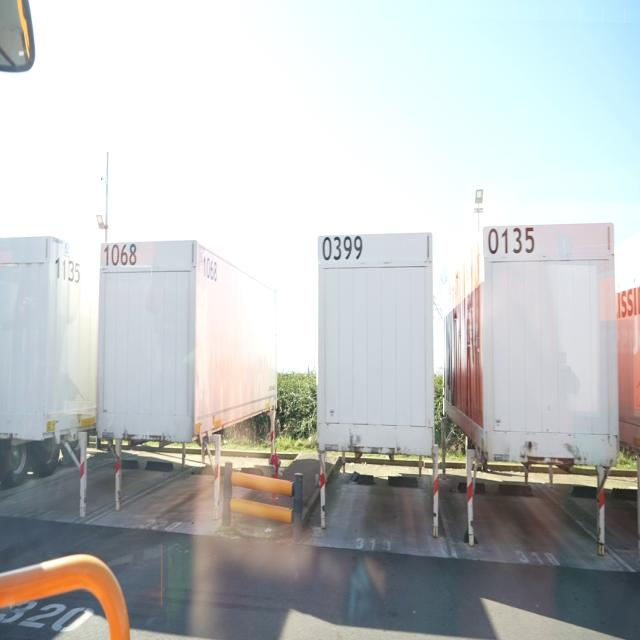Code: (484, 221, 538, 261), (321, 232, 362, 269), (101, 241, 137, 270), (52, 253, 80, 286), (199, 251, 220, 286)
